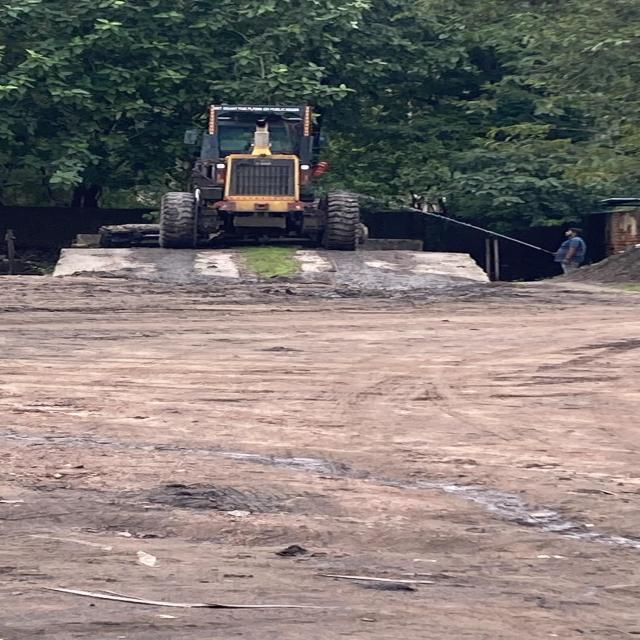buldozerpayloadergrader: (152, 84, 380, 245)
